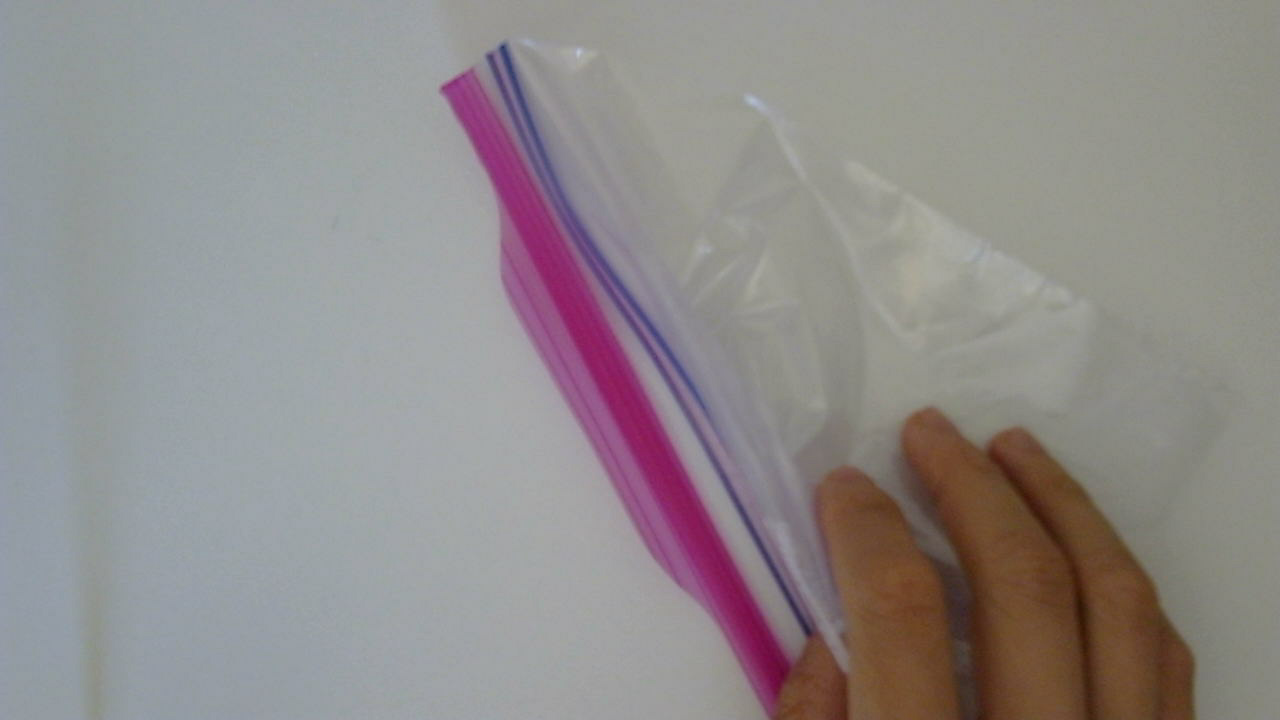Plastic Bag: (442, 10, 1229, 720)
